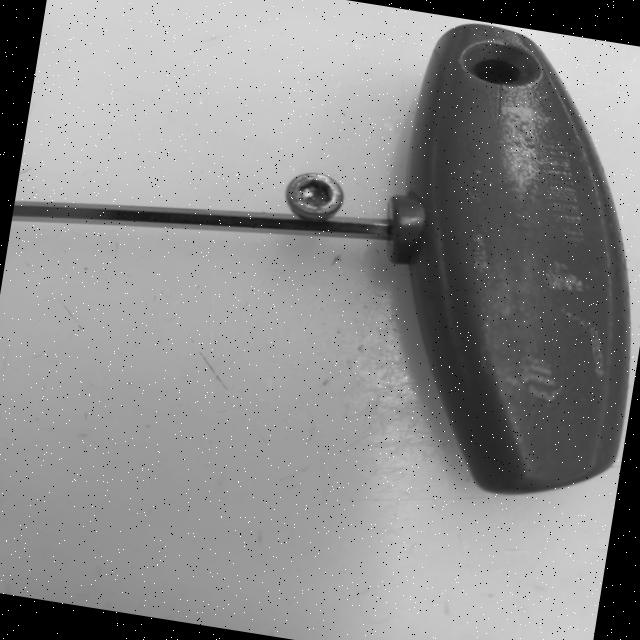Hex Socket Allen: (284, 168, 346, 222)
